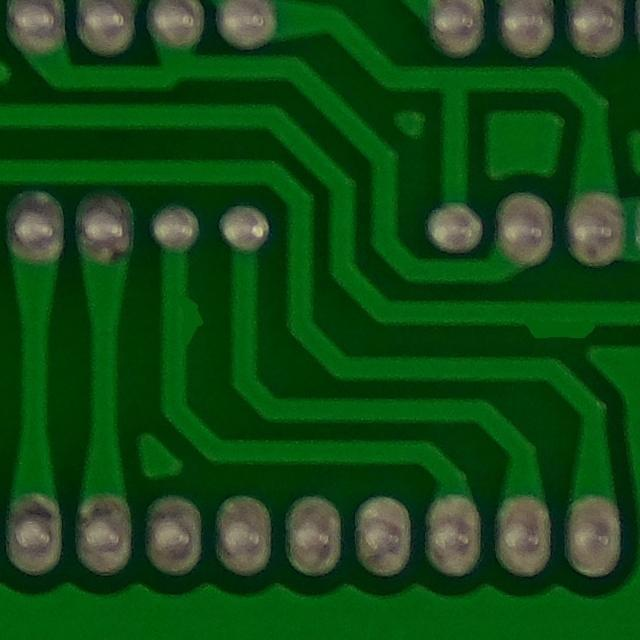spur: (509, 282, 607, 354), (145, 284, 217, 358)
